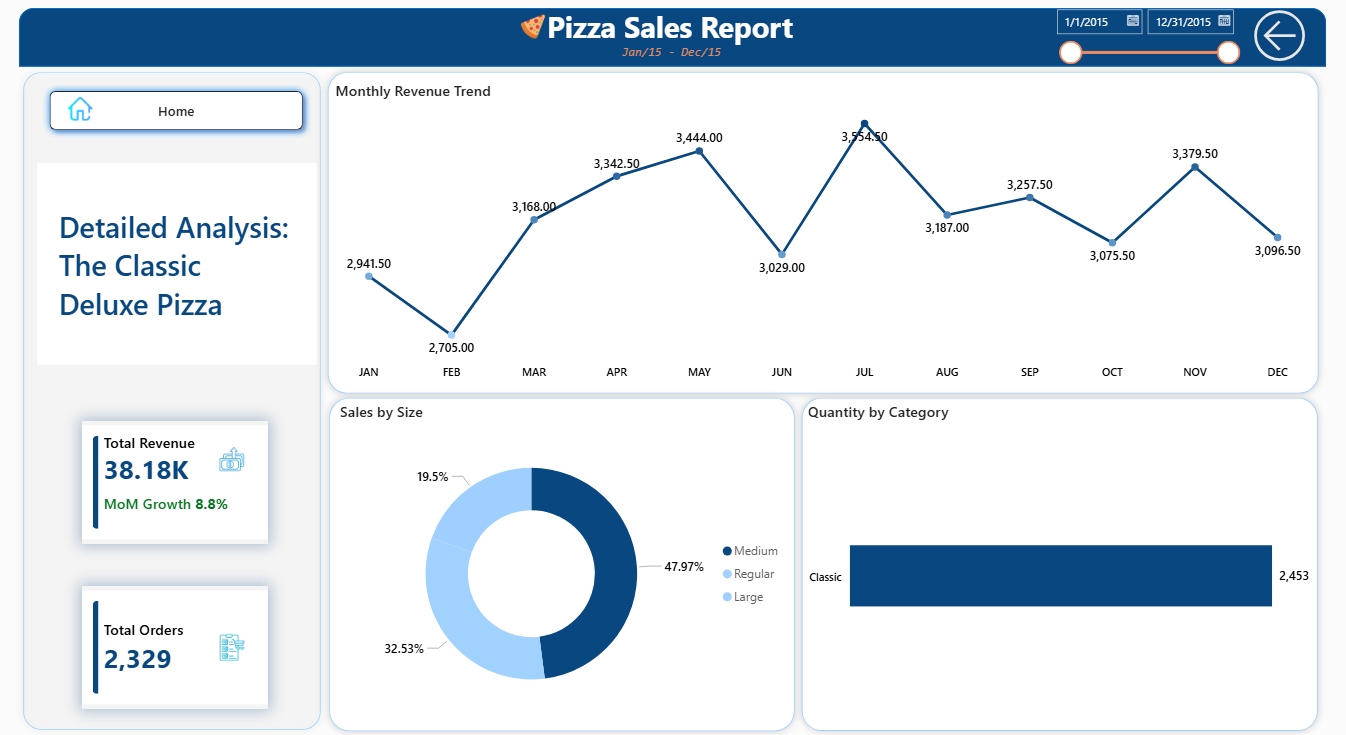

What the dashboard file says about the page in this screenshot:
{"tool":"powerbi","page":{"name":"Pizza Detail Analysis","canvas":[1500,820],"ordinal":2},"visuals":[{"type":"shape","box":[23,9.6,1450.5,65.1],"z":0},{"type":"textbox","box":[604.5,3.4,287.6,55.1],"z":1000},{"type":"image","box":[554.4,16.7,78.9,27.8],"z":2000},{"type":"textbox","box":[687,44,122.5,30.6],"z":3000},{"type":"shape","box":[20.7,74.1,346.1,745.7],"z":4000},{"type":"shape","box":[358.4,73.6,1115.5,372.6],"z":5000},{"type":"shape","box":[884.1,433.8,588.8,385.8],"z":6000},{"type":"shape","box":[359.5,434.4,532.6,386.2],"z":7000},{"type":"slicer","fields":{"Values":["pizza_sales.order_date"]},"box":[1161.8,1.7,224.7,71.6],"z":13000},{"type":"lineChart","title":"Monthly Revenue Trend","fields":{"Y":["pizza_sales.Total Revenue"],"Category":["DateTable.Month Name"]},"box":[370.3,90.2,1091.8,341.8],"z":14000},{"type":"donutChart","title":"Sales by Size","fields":{"Category":["pizza_sales.pizza_size"],"Y":["pizza_sales.Total Orders"]},"box":[374.5,446.1,506,361.2],"z":15000},{"type":"barChart","title":"Quantity by Category","fields":{"Category":["pizza_sales.pizza_category"],"Y":["pizza_sales.Total Pizzas Sold"]},"box":[893.4,446.7,570.4,361.8],"z":16000},{"type":"pageNavigator","box":[47.5,92.6,299.1,61.7],"z":17000},{"type":"image","box":[75.5,108.2,32.7,27.3],"z":19000},{"type":"cardVisual","fields":{"Data":["pizza_sales.Total Revenue"]},"box":[92.6,467.6,206.5,137.7],"z":21000},{"type":"cardVisual","fields":{"Data":["pizza_sales.Total Orders"]},"box":[92.6,650.3,206.5,137.7],"z":22000},{"type":"actionButton","box":[1386.1,4.7,99.7,71.2],"z":23000},{"type":"cardVisual","fields":{"Data":["pizza_sales.Selected Pizza"]},"box":[38,175.6,320.4,235],"z":23001}]}

Visuals, with their boxes in screenshot pixels (x1, y1, x2, y2), scaled from the page's 1500x820 canvas onto the 1346x735 screenshot:
shape: crop(21, 9, 1322, 67)
textbox: crop(542, 3, 801, 52)
image: crop(497, 15, 568, 40)
textbox: crop(616, 39, 726, 67)
shape: crop(19, 66, 329, 734)
shape: crop(322, 66, 1323, 400)
shape: crop(793, 389, 1322, 734)
shape: crop(323, 389, 801, 734)
slicer - pizza_sales.order_date: crop(1043, 2, 1244, 66)
"Monthly Revenue Trend" lineChart: crop(332, 81, 1312, 387)
"Sales by Size" donutChart: crop(336, 400, 790, 724)
"Quantity by Category" barChart: crop(802, 400, 1314, 725)
pageNavigator: crop(43, 83, 311, 138)
image: crop(68, 97, 97, 121)
cardVisual - pizza_sales.Total Revenue: crop(83, 419, 268, 543)
cardVisual - pizza_sales.Total Orders: crop(83, 583, 268, 706)
actionButton: crop(1244, 4, 1333, 68)
cardVisual - pizza_sales.Selected Pizza: crop(34, 157, 322, 368)
